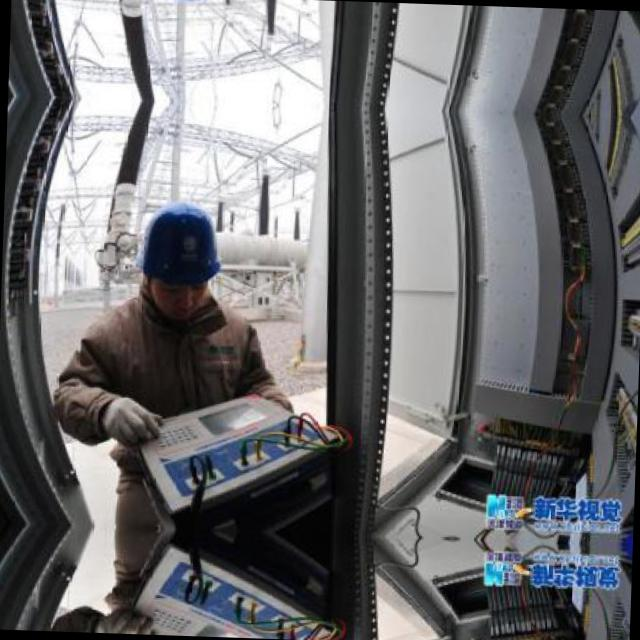helmet: (136, 192, 222, 321)
